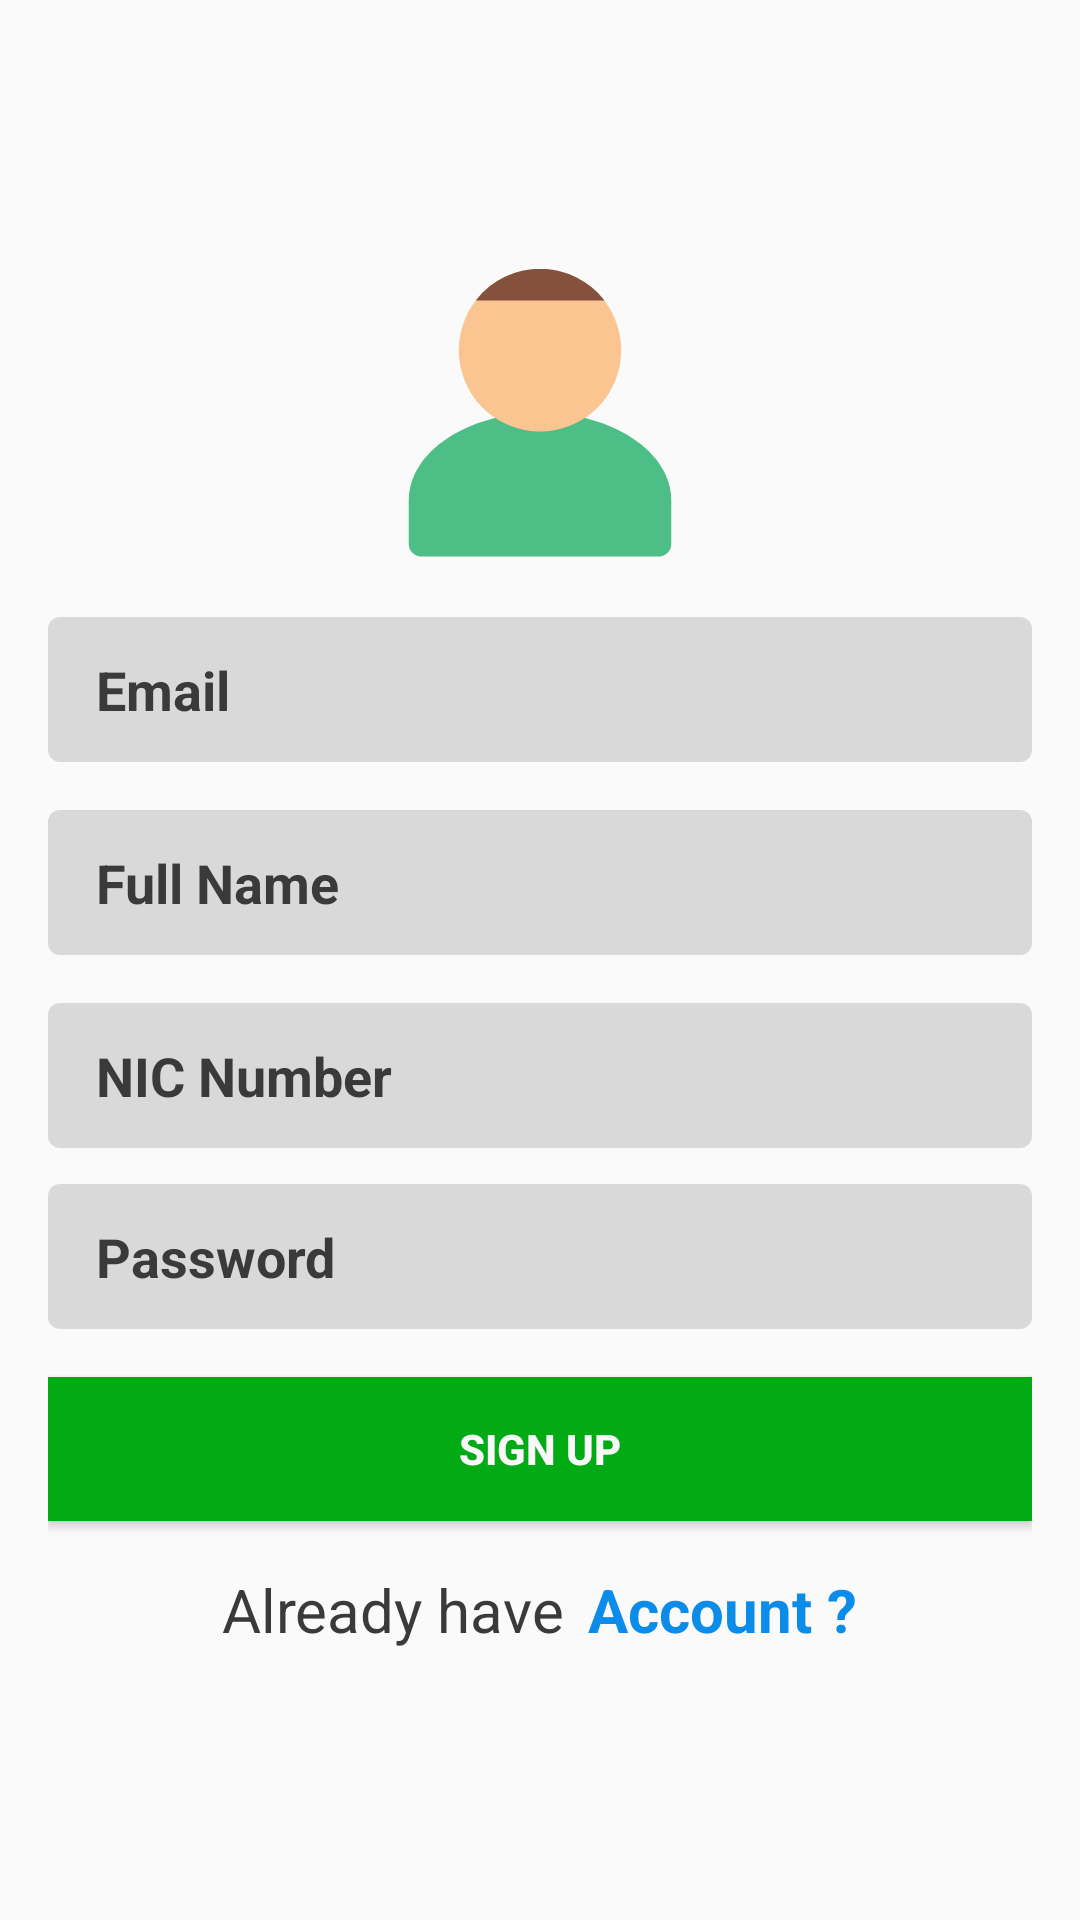

Where to tap for icons on this 1080 x 1920 app screen, as [x,y]:
user: [540,413]
